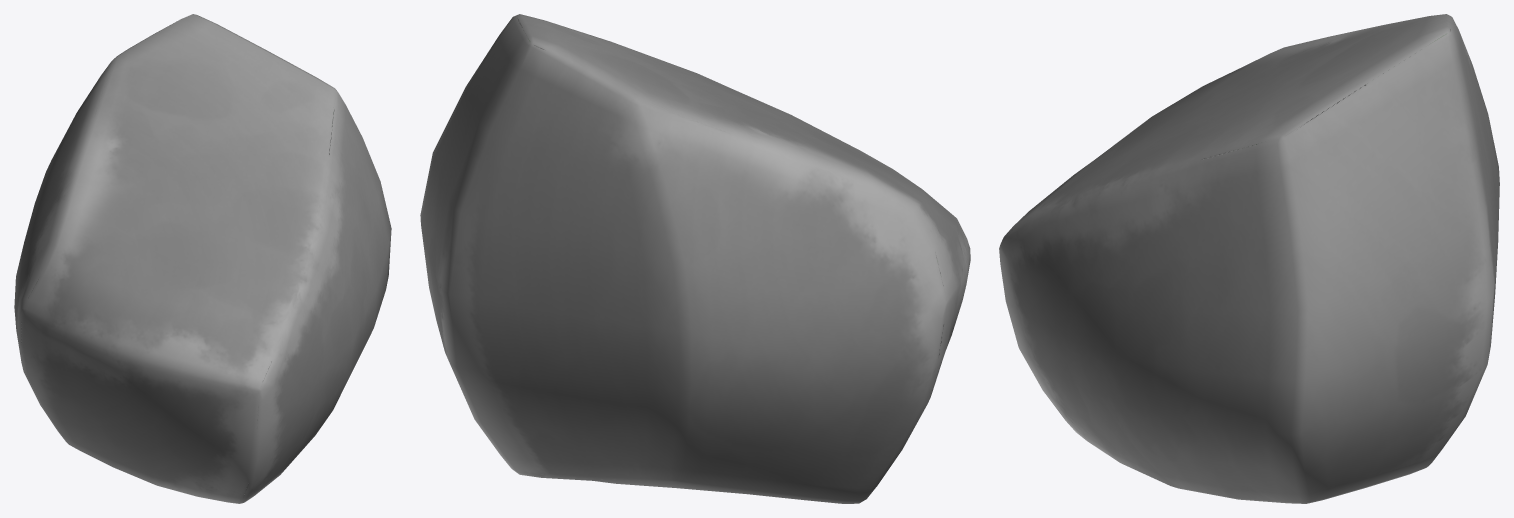
Rendered from Stone_1.FBX.
3 views of the same model, side by side, from view 1: azimuth 30°, elevation 25°; view 2: azimuth 150°, elevation 25°; view 3: azimuth 270°, elevation 25° (orthographic). The views are drawn at different scales.
Parts seen in each view (by area): view 1: Rock4; view 2: Rock4; view 3: Rock4.
Boxes of the visible parts, x1,y1,x2,y2 form: Rock4: [14, 14, 391, 503]; Rock4: [420, 14, 970, 503]; Rock4: [999, 14, 1499, 503].
Bounding box in the file's own units: 0.6814 × 0.6107 × 0.628.
Materials: 1 (1 with a texture image).
